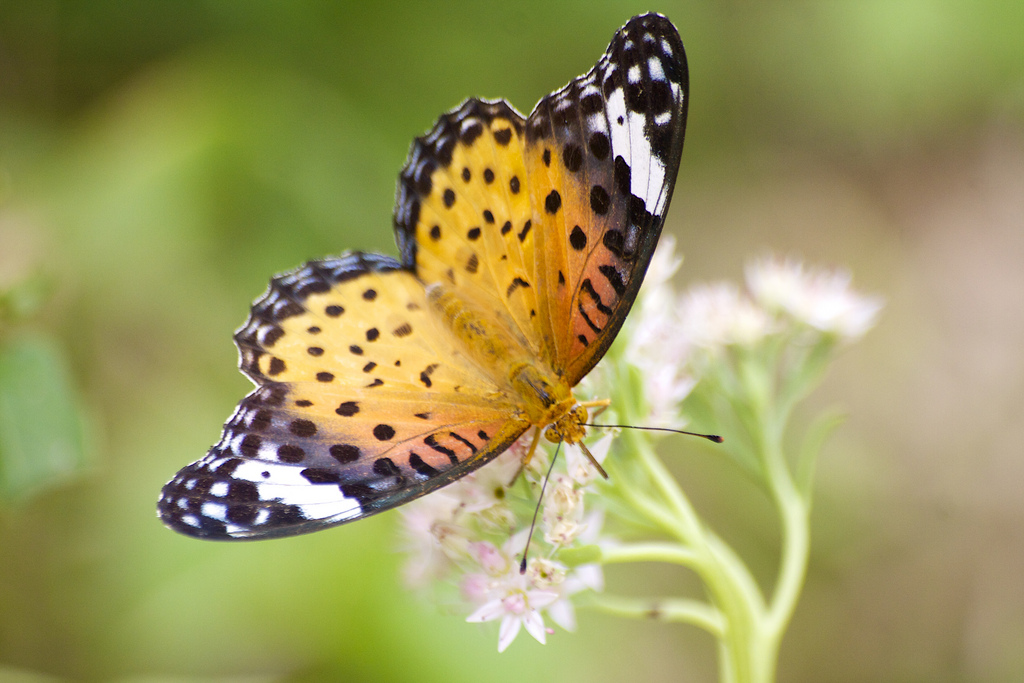Argyreus hyperbius: (136, 4, 733, 572)
butterfly: (138, 6, 735, 574)
